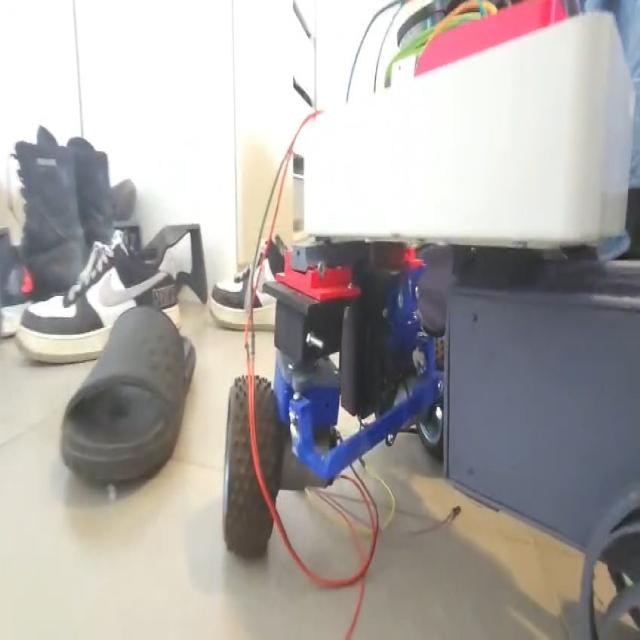Robot: (218, 3, 640, 640)
